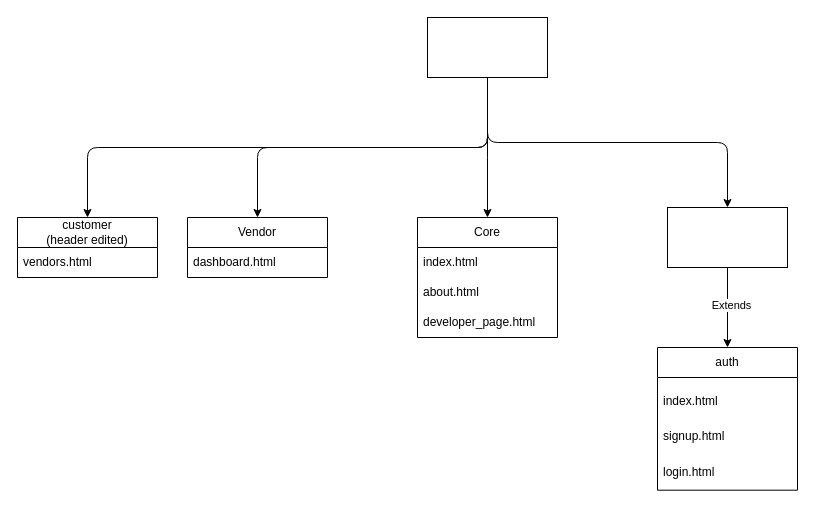
Image size: 815x508. Some labels were removed from this diagram. The shapes that lost their labels are listed below. From the top down, each one's centre as x and y in pixels, then its label:
At pixel 487 47: "base.index".
At pixel 727 237: "authbase.index".
